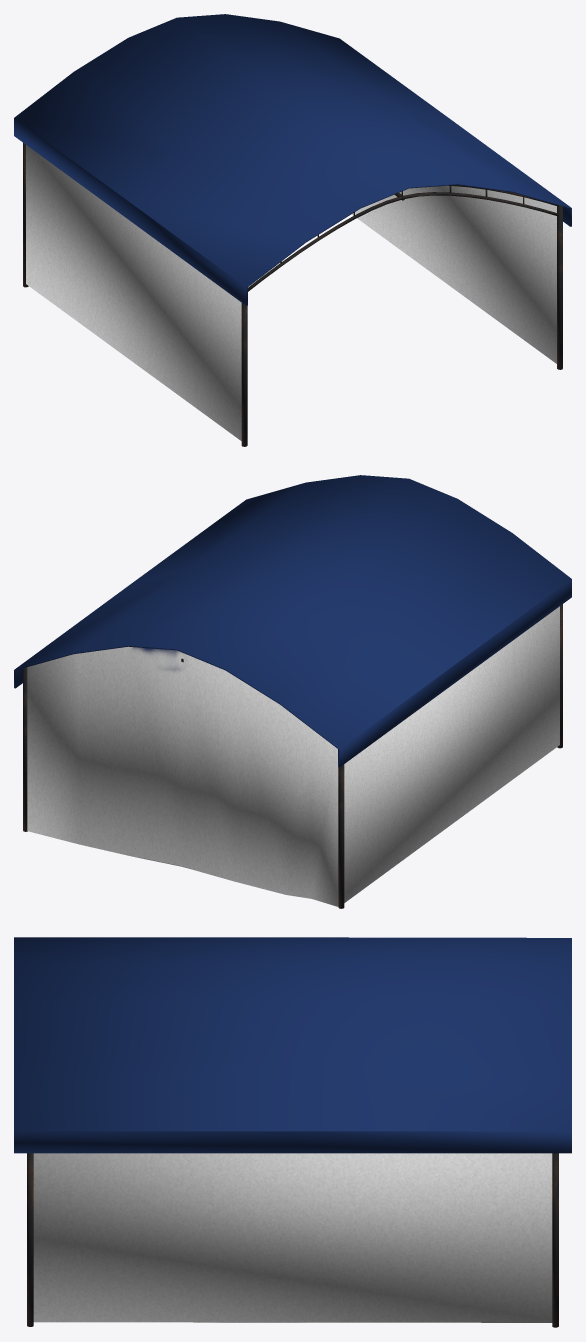
File: trellis.fbx
3 views of the same model, one above another, from view 1: azimuth 30°, elevation 25°; view 2: azimuth 150°, elevation 25°; view 3: azimuth 270°, elevation 25° (orthographic). The views are drawn at different scales.
Visible parts, largest first — view 1: 靈堂棚架; view 2: 靈堂棚架; view 3: 靈堂棚架.
Part boxes in pixels (<box>): 靈堂棚架: <box>14,14,571,446</box>; 靈堂棚架: <box>14,475,571,908</box>; 靈堂棚架: <box>14,937,571,1327</box>.
Bounding box in the file's own units: 516 × 341 × 638.
